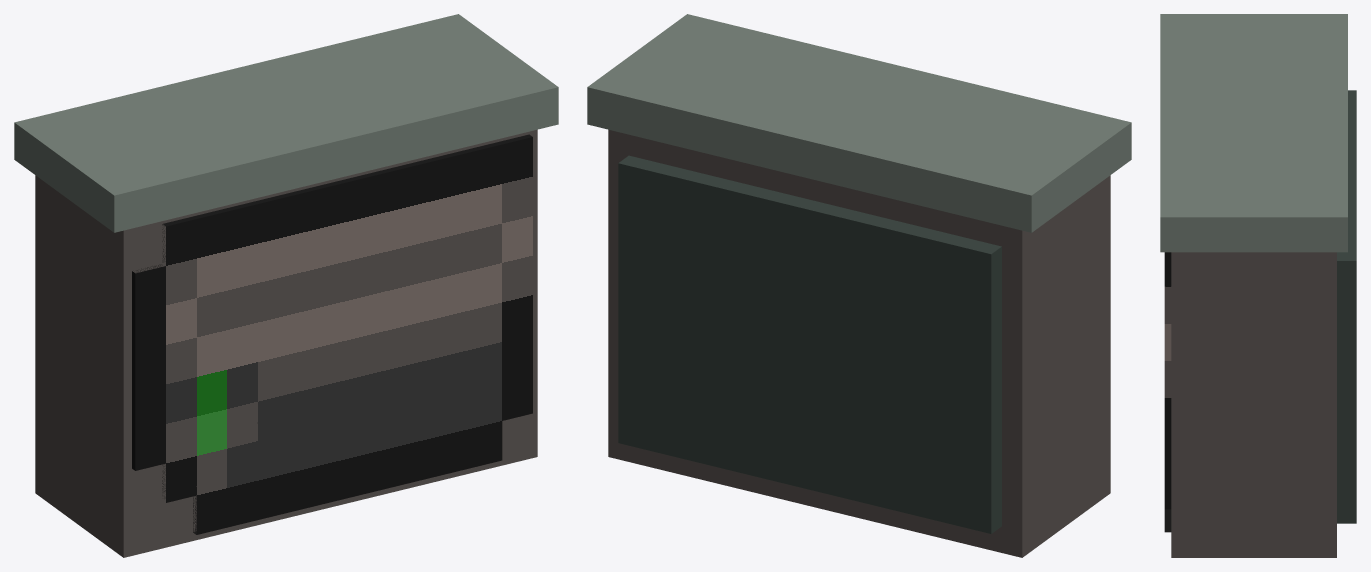
The model's file is CMU3DInteriorVehicleInteriorCamera.glb.
3 views of the same model, side by side, from view 1: azimuth 30°, elevation 25°; view 2: azimuth 150°, elevation 25°; view 3: azimuth 270°, elevation 25° (orthographic). The views are drawn at different scales.
Parts seen in each view (by area): view 1: source equipment controls, reinforced top, closed equipment casing; view 2: rear service plate, reinforced top, closed equipment casing; view 3: closed equipment casing, reinforced top, rear service plate, source equipment controls.
Part boxes in pixels (x1,y1,x2,y2): source equipment controls: [132, 134, 532, 534]; reinforced top: [14, 14, 558, 232]; closed equipment casing: [35, 129, 537, 557]; rear service plate: [618, 155, 1001, 533]; reinforced top: [587, 14, 1131, 232]; closed equipment casing: [608, 129, 1110, 557]; closed equipment casing: [1171, 252, 1336, 557]; reinforced top: [1160, 14, 1347, 252]; rear service plate: [1337, 90, 1356, 523]; source equipment controls: [1164, 252, 1171, 532].
Bounding box in the file's own units: 0.4363 × 0.3475 × 0.178.
4 materials, 1 textured.
